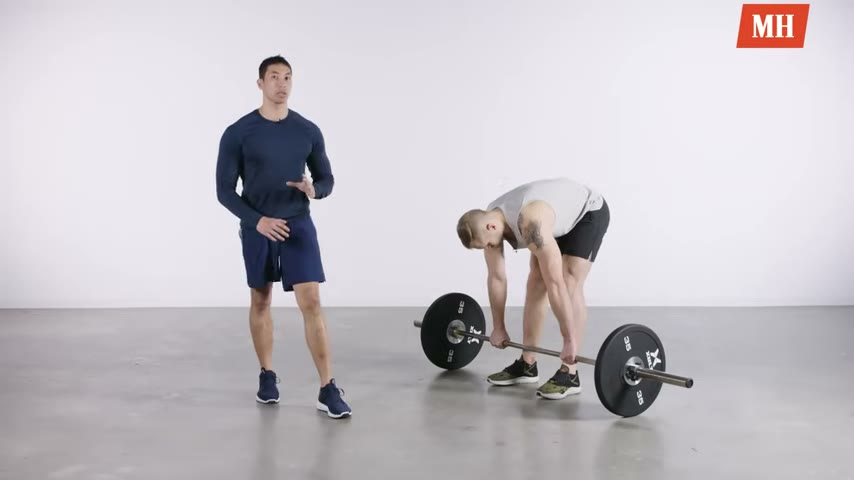barbell_plate_side: (413, 291, 485, 416), (618, 316, 697, 426)
